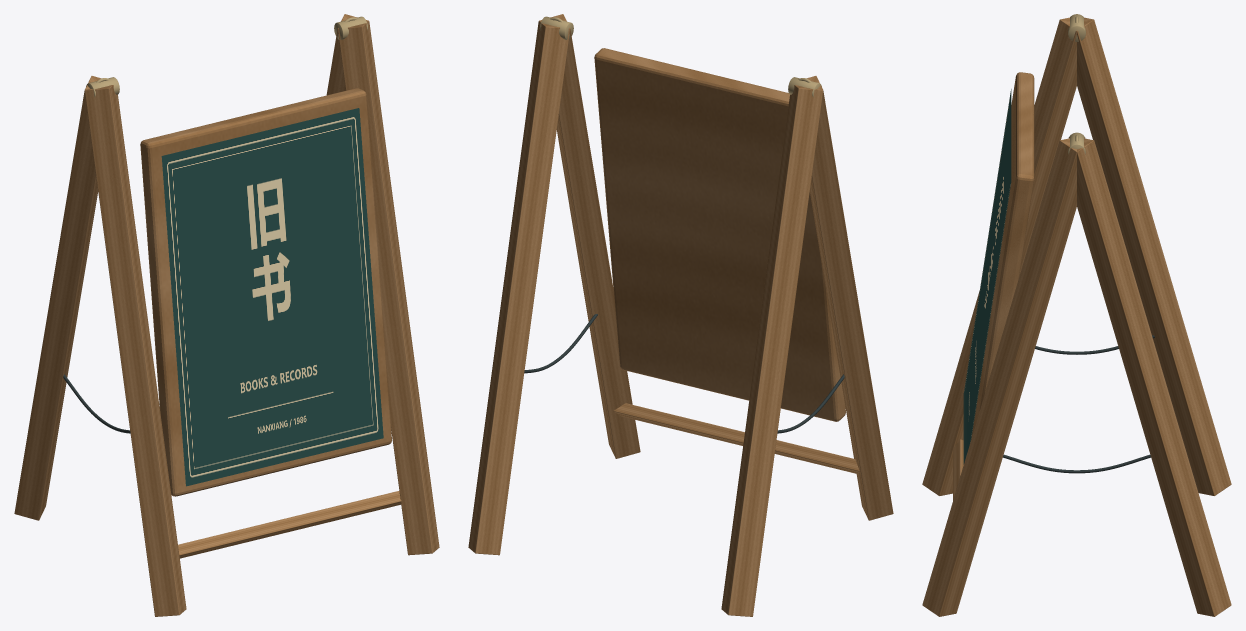
Rendered from BookSign.glb.
3 views of the same model, side by side, from view 1: azimuth 30°, elevation 25°; view 2: azimuth 150°, elevation 25°; view 3: azimuth 270°, elevation 25° (orthographic). The views are drawn at different scales.
Visible parts, largest first — view 1: BookSign_NX_BookSignPrint, BookSign_NX_Oak, BookSign_NX_Brass; view 2: BookSign_NX_Oak, BookSign_NX_Brass, BookSign_NX_BlackSteel; view 3: BookSign_NX_Oak, BookSign_NX_BookSignPrint, BookSign_NX_BlackSteel, BookSign_NX_Brass.
Boxes of the visible parts, bbox=[...] form: BookSign_NX_BookSignPrint: bbox=[161, 108, 383, 486]; BookSign_NX_Oak: bbox=[14, 14, 439, 616]; BookSign_NX_Brass: bbox=[86, 16, 368, 97]; BookSign_NX_Oak: bbox=[468, 14, 893, 616]; BookSign_NX_Brass: bbox=[539, 16, 821, 97]; BookSign_NX_BlackSteel: bbox=[524, 314, 844, 433]; BookSign_NX_Oak: bbox=[922, 17, 1231, 616]; BookSign_NX_BookSignPrint: bbox=[963, 89, 1011, 464]; BookSign_NX_BlackSteel: bbox=[1003, 335, 1154, 473]; BookSign_NX_Brass: bbox=[1068, 14, 1085, 154].
Size of the model in its own units: 0.6071 by 0.9934 by 0.5843.
Materials: 4 (2 with a texture image).
